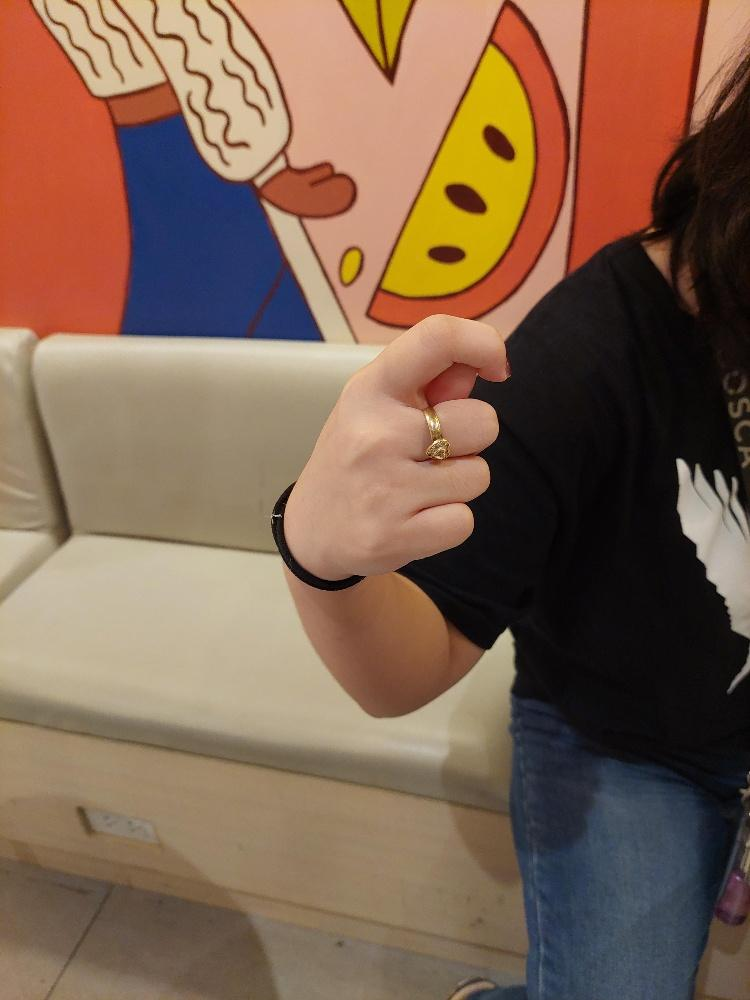t: (278, 308, 513, 579)
